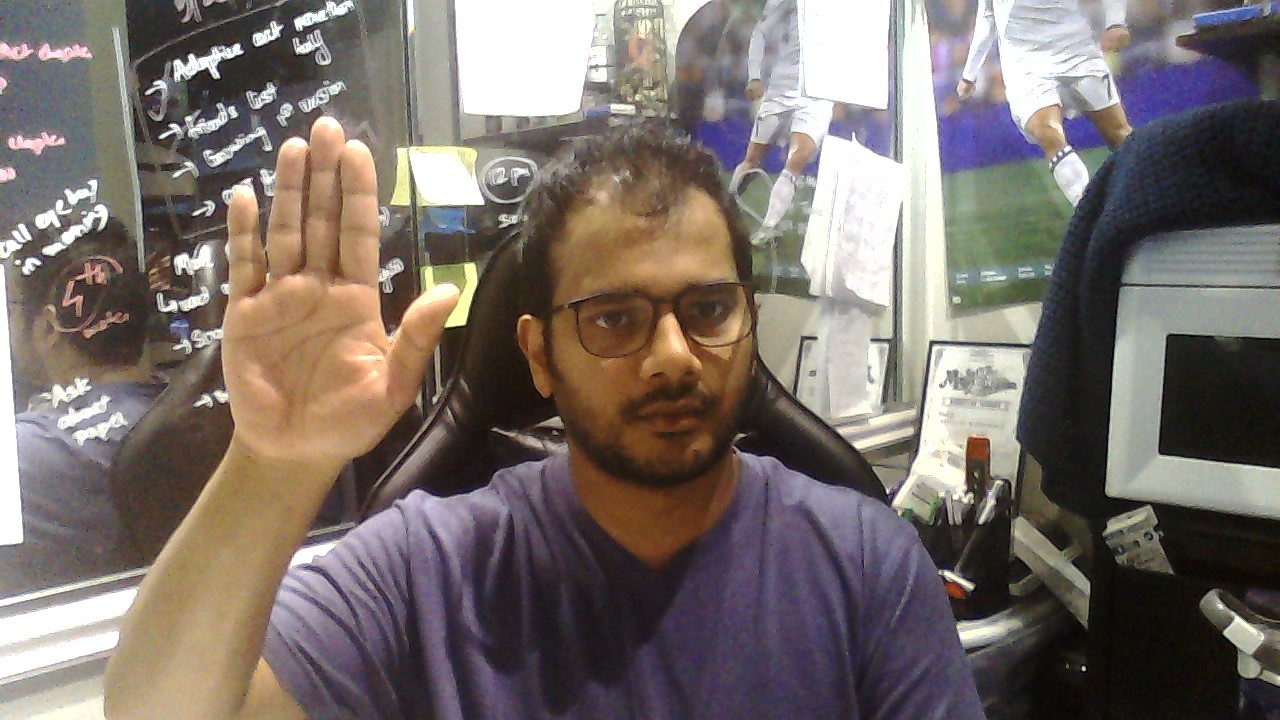Hello: (221, 116, 460, 458)
